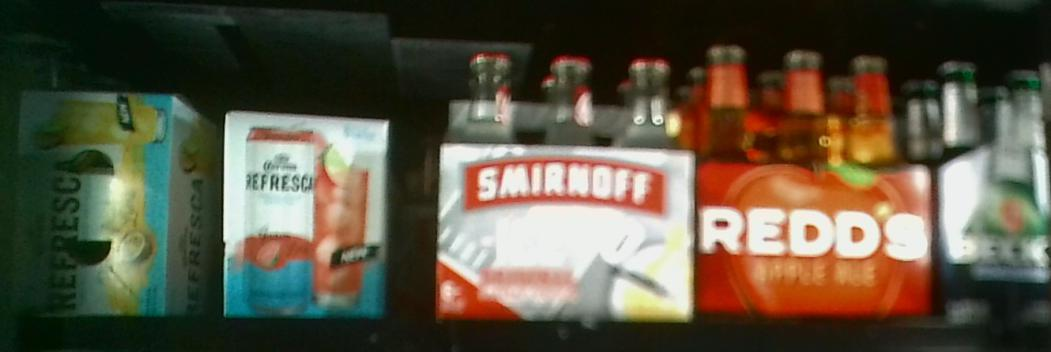bottle: (438, 48, 698, 323), (695, 43, 940, 318), (9, 86, 221, 320), (225, 109, 391, 319)
